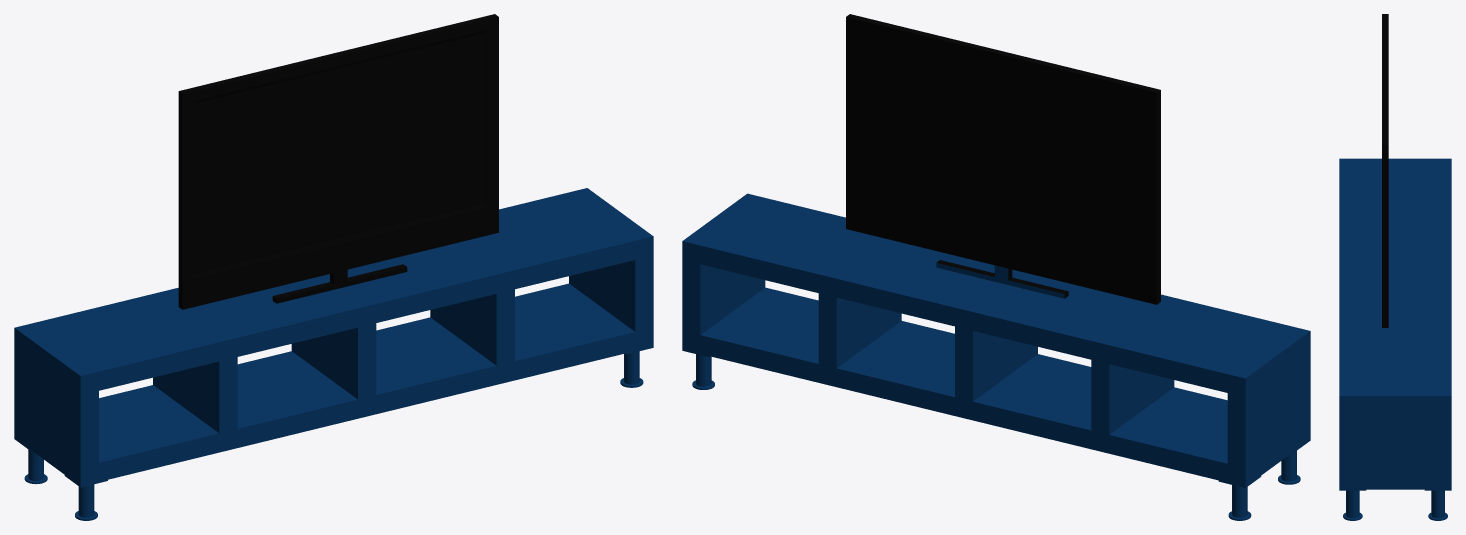
The model's file is tv_with_normals.obj.
3 renders of one model, left to right at view 1: azimuth 30°, elevation 25°; view 2: azimuth 150°, elevation 25°; view 3: azimuth 270°, elevation 25°, orthographic. The views are drawn at different scales.
Parts seen in each view (by area): view 1: b, a; view 2: b, a; view 3: b, a.
Part boxes in pixels (left/top/right/bottom): b: left=14, top=188, right=653, bottom=520; a: left=178, top=14, right=498, bottom=309; b: left=682, top=193, right=1310, bottom=520; a: left=846, top=14, right=1160, bottom=304; b: left=1339, top=158, right=1451, bottom=520; a: left=1382, top=14, right=1388, bottom=327.
Size of the model in its own units: 2.5 by 1.59 by 0.5.
